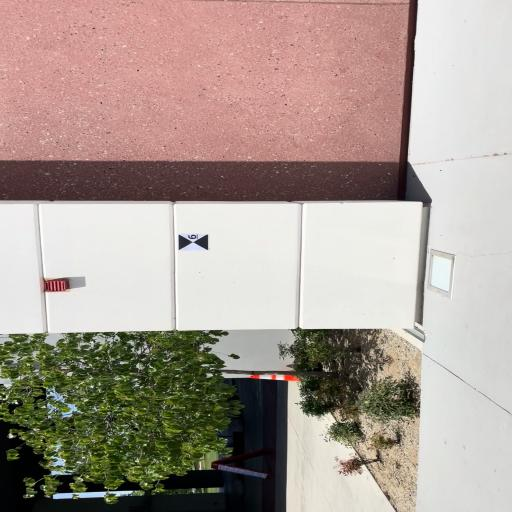target6: (179, 233, 211, 251)
